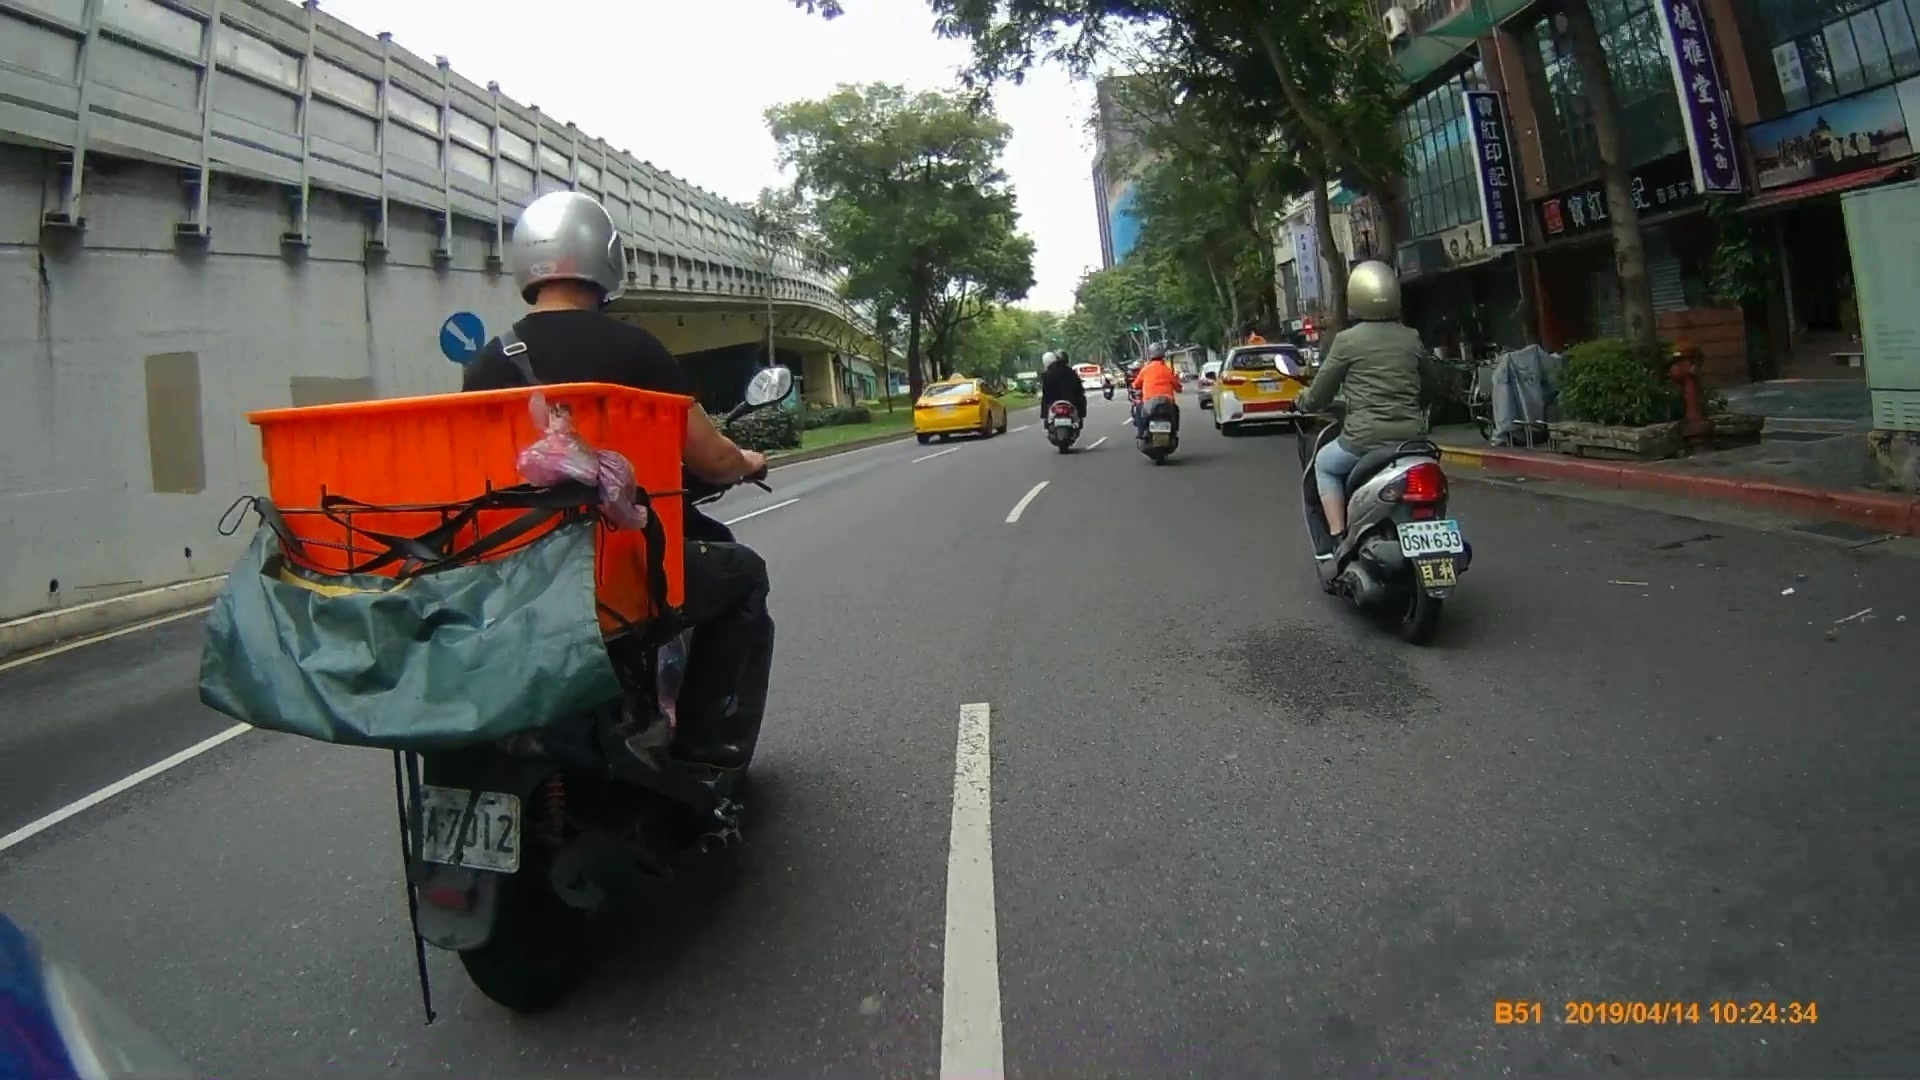License_plate: (406, 788, 528, 872), (1394, 520, 1468, 557)
